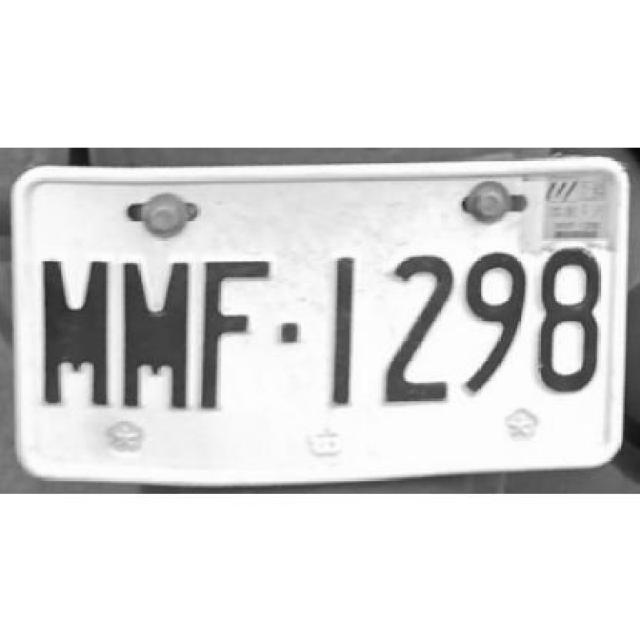-: (275, 310, 300, 348)
1: (329, 243, 358, 414)
2: (380, 245, 455, 412)
8: (532, 242, 602, 396)
9: (456, 243, 530, 397)
F: (194, 251, 272, 415)
M: (35, 251, 114, 412), (116, 254, 192, 415)
